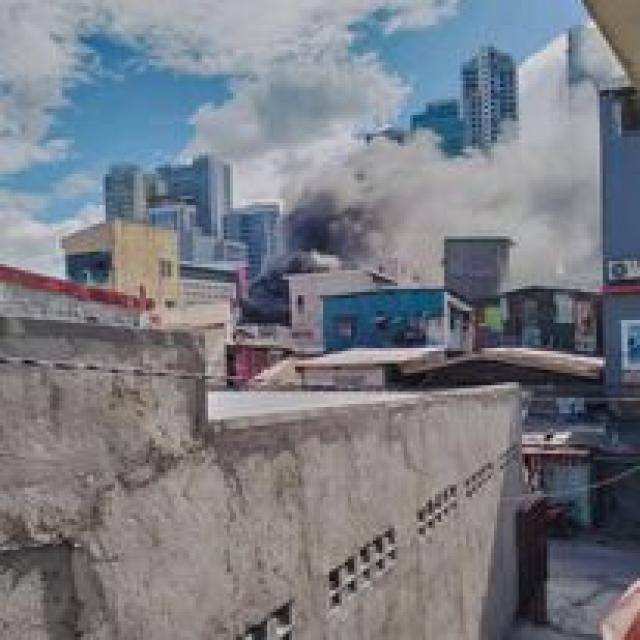Smoke: (384, 111, 596, 231), (248, 66, 404, 200), (274, 198, 404, 258)
